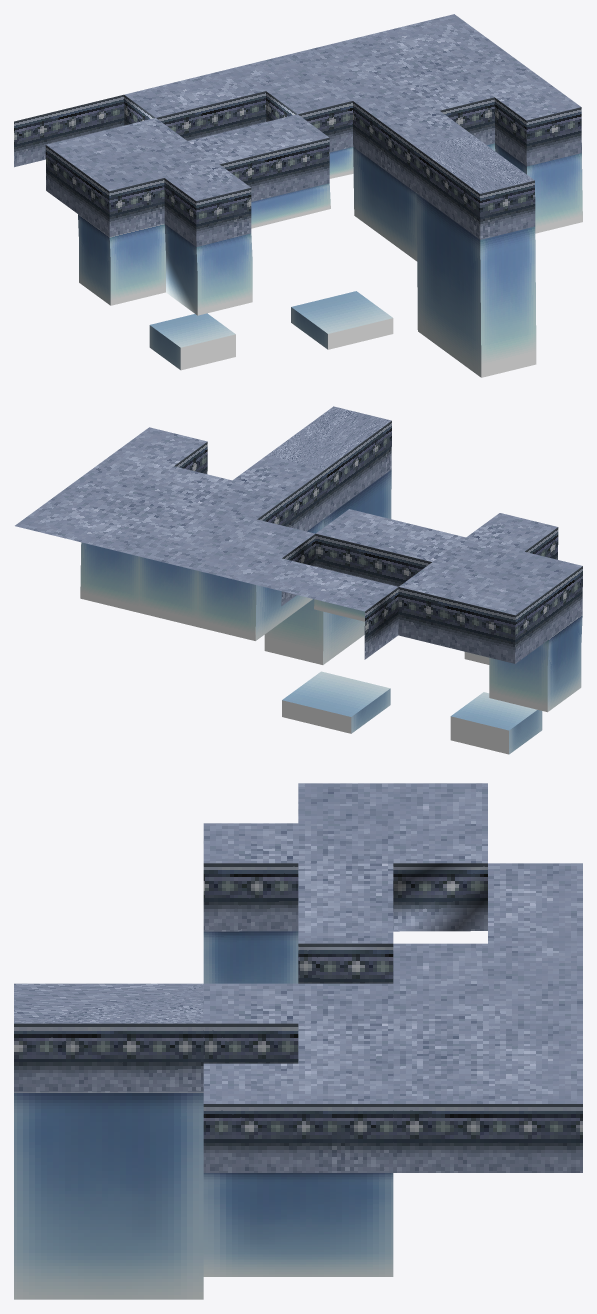
File: a_ESDwall02e.glb
The picture shows the model from 3 angles, top to bottom: view 1: azimuth 30°, elevation 25°; view 2: azimuth 150°, elevation 25°; view 3: azimuth 270°, elevation 25°; orthographic projection. The views are drawn at different scales.
Visible parts, largest first — view 1: a_ESDwall02e; view 2: a_ESDwall02e; view 3: a_ESDwall02e.
Boxes of the visible parts, left/top/right/bottom form: a_ESDwall02e: left=14, top=14, right=582, bottom=377; a_ESDwall02e: left=15, top=406, right=582, bottom=754; a_ESDwall02e: left=14, top=783, right=582, bottom=1299.
Size of the model in its own units: 2.01 by 0.8403 by 1.5.
Materials: 3 (3 with a texture image).
